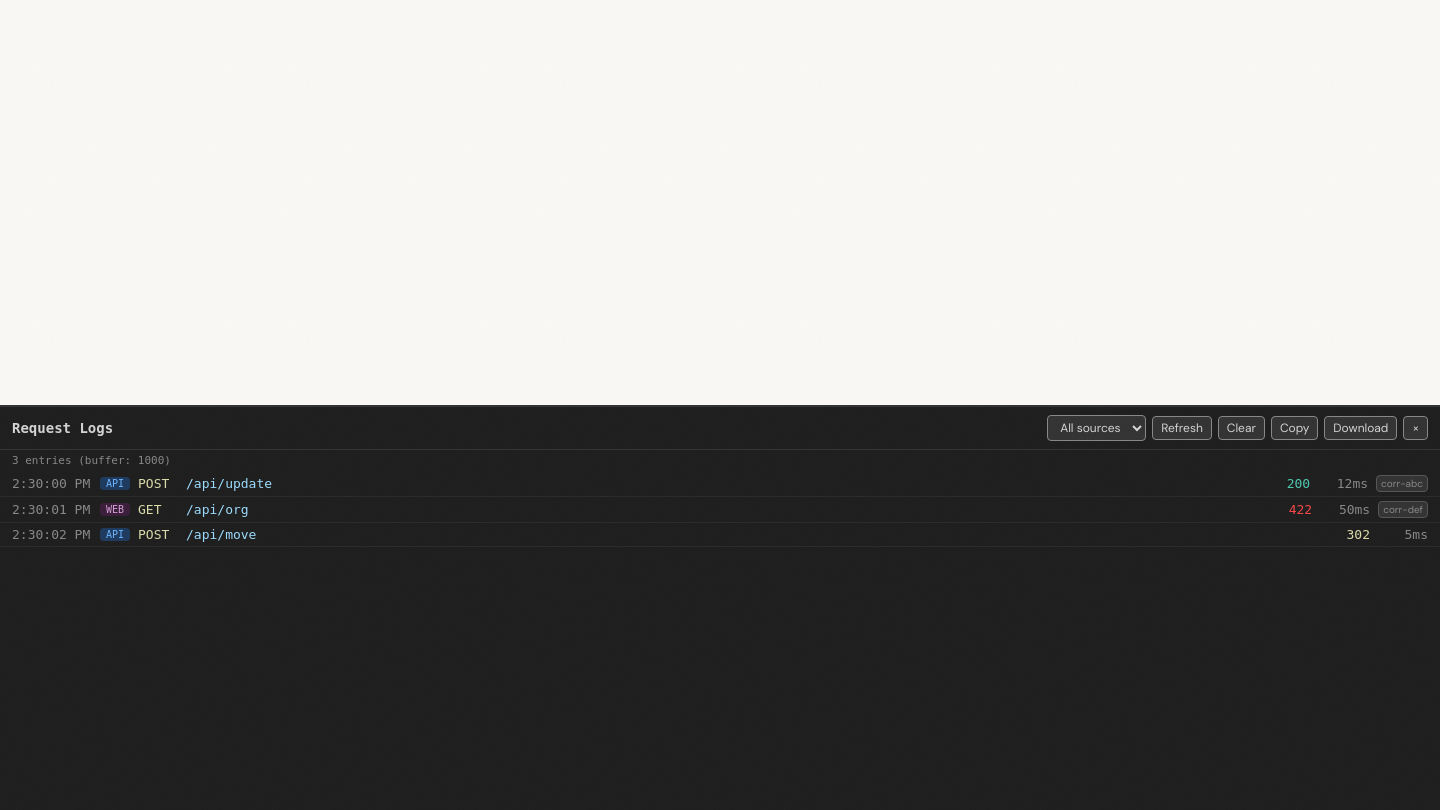
Test: LogPanel — branch coverage › shows error in expanded entry
Click the button "/api/org" at (51, 510), box [0,497,1439,522]
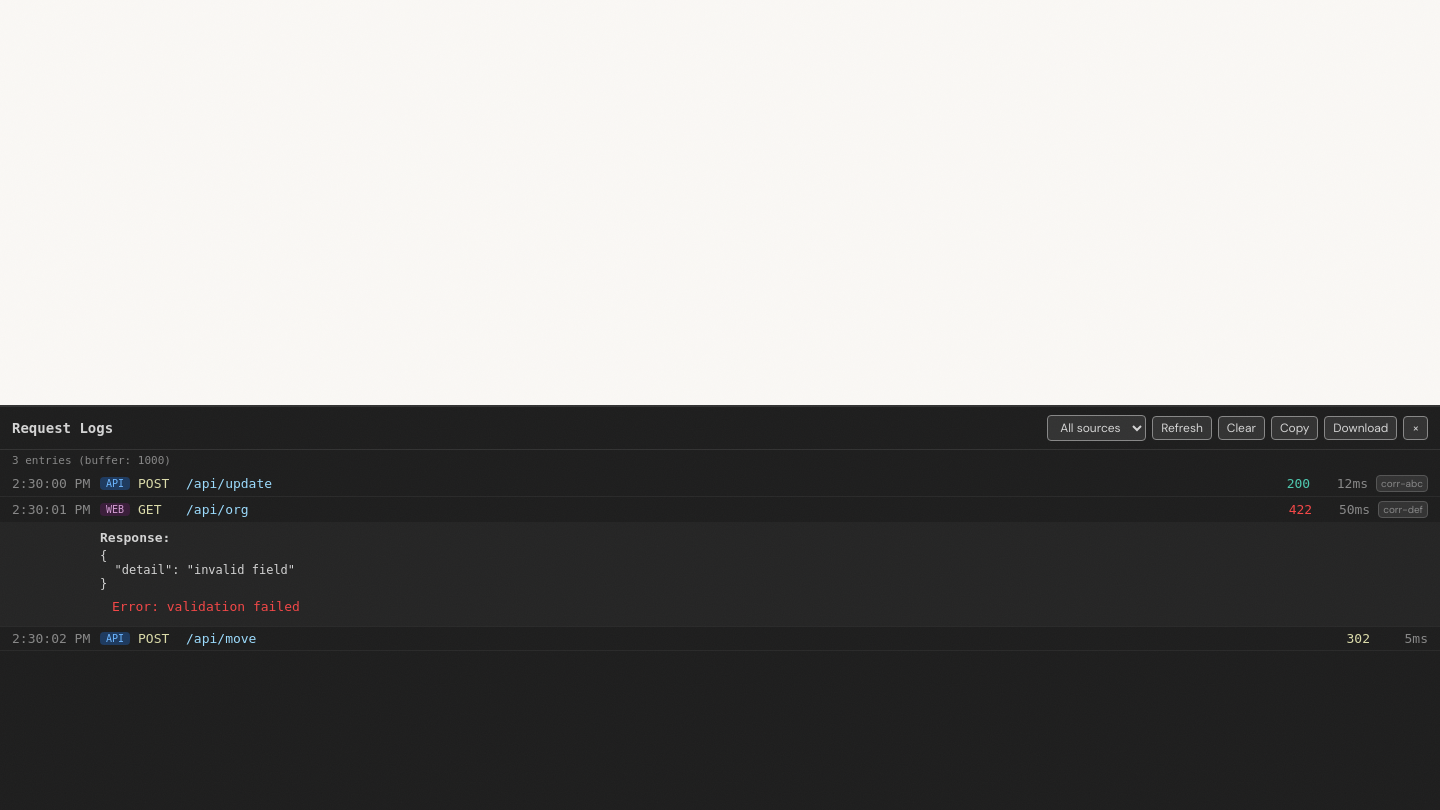
Expected: the text "Response:" is shown, [100,530,170,545]
Expected: the text "Error: validation failed" is shown, [112,599,300,614]
